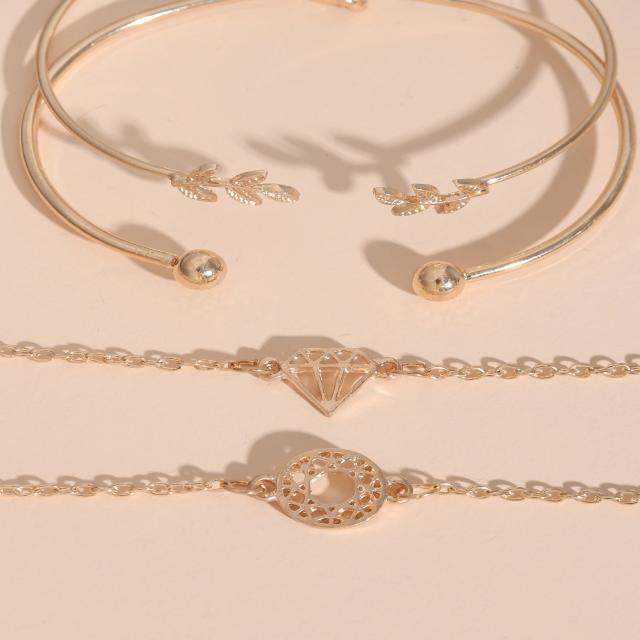bracelet: (0, 0, 640, 323), (0, 270, 640, 584)
